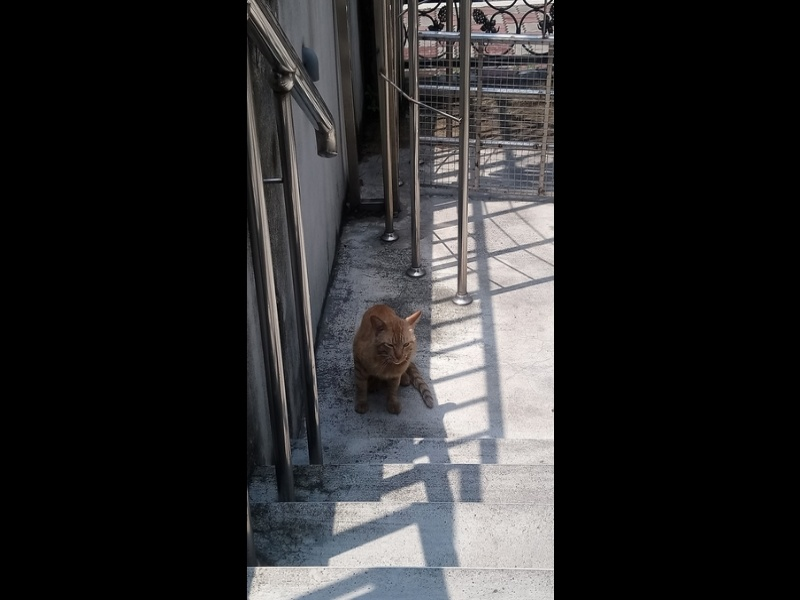cat: (351, 302, 436, 421)
